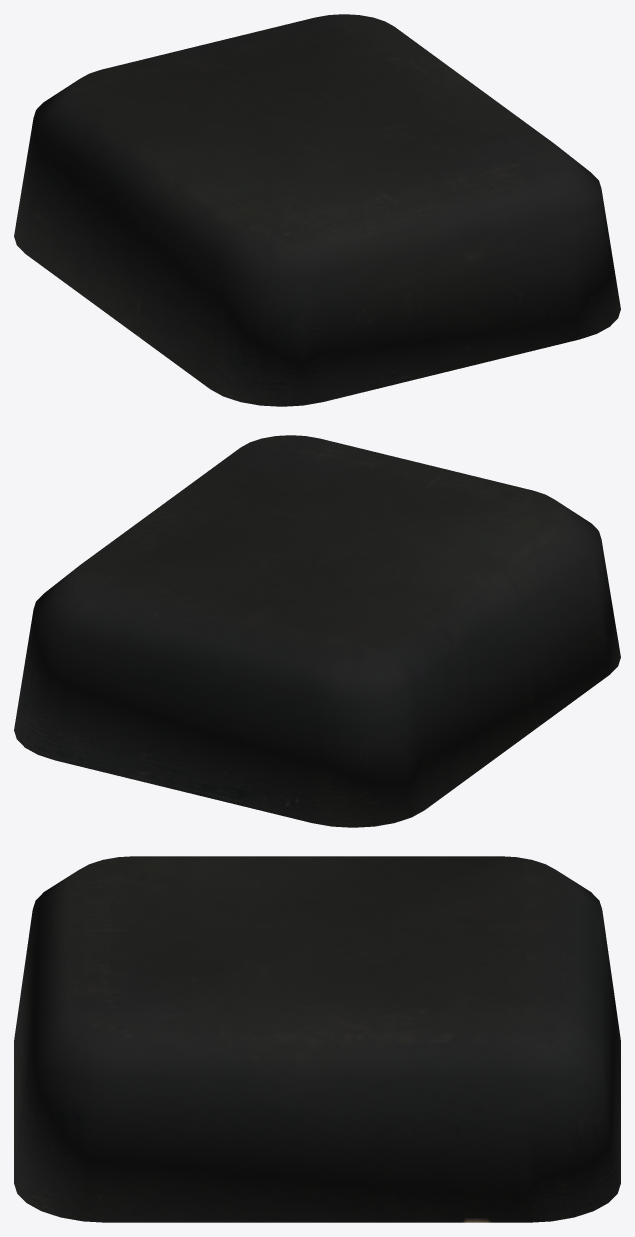
File: SM_Main_Corps.glb
3 renders of one model, top to bottom at view 1: azimuth 30°, elevation 25°; view 2: azimuth 150°, elevation 25°; view 3: azimuth 270°, elevation 25°, orthographic. The views are drawn at different scales.
Size of the model in its own units: 1.72 by 0.6154 by 2.
Materials: 1 (1 with a texture image).
